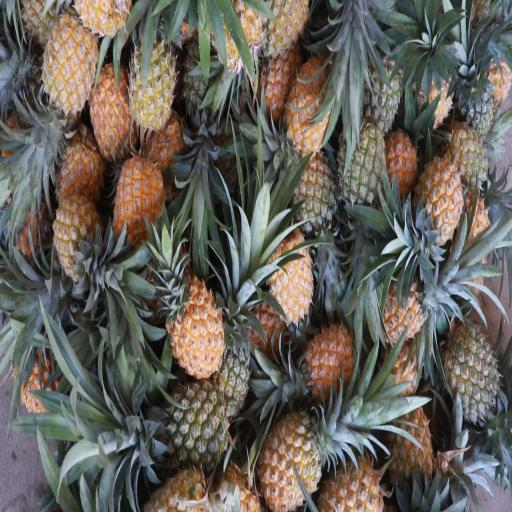Pineapple - v8 v1: (33, 8, 103, 128), (255, 401, 325, 512), (379, 394, 439, 512), (284, 40, 342, 162), (164, 276, 227, 381), (296, 308, 359, 413), (333, 107, 392, 219), (126, 20, 183, 135), (47, 189, 103, 299), (407, 149, 466, 253), (110, 159, 168, 264), (288, 135, 338, 253), (87, 44, 137, 159), (369, 273, 433, 362), (266, 216, 312, 335), (214, 4, 266, 82)
